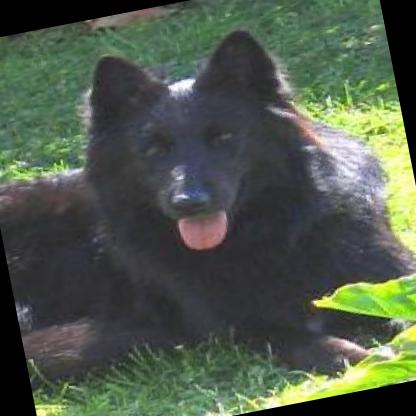groenendael: (0, 3, 416, 416)
